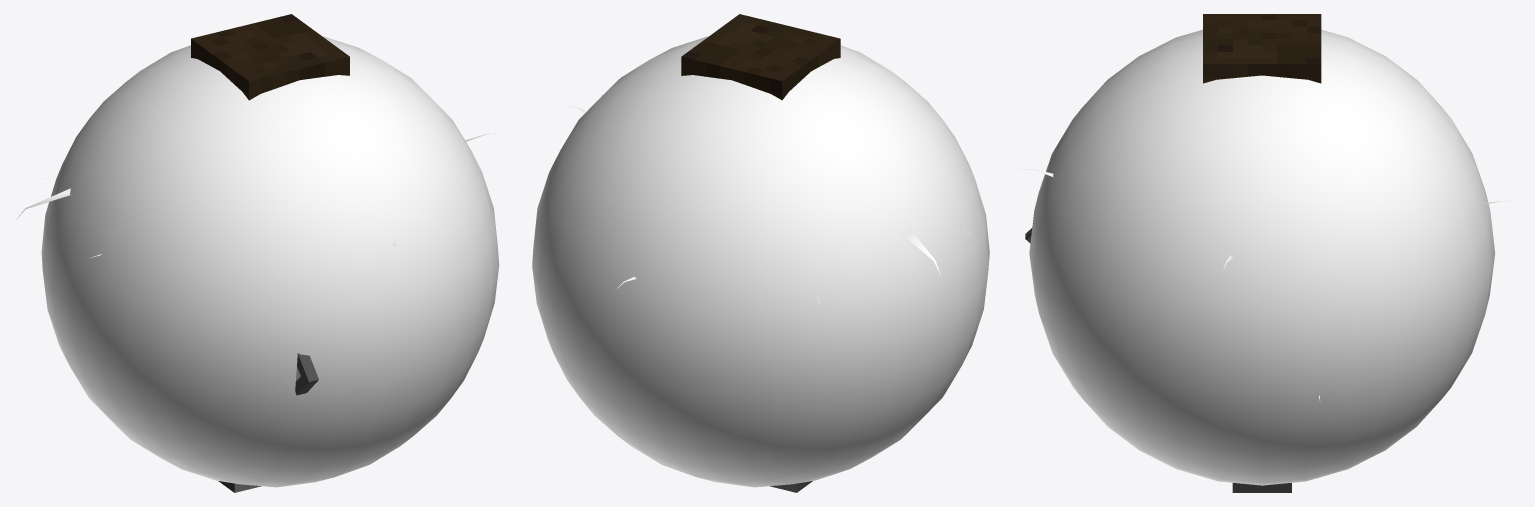
Rendered from steve.glb.
3 views of the same model, side by side, from view 1: azimuth 30°, elevation 25°; view 2: azimuth 150°, elevation 25°; view 3: azimuth 270°, elevation 25° (orthographic).
Visible parts, largest first — view 1: Sphere, Steve, Box003; view 2: Sphere, Steve; view 3: Sphere, Steve, Steve.003.
Part boxes in pixels (x1,y1,x2,y2): Sphere: [41, 36, 499, 487]; Steve: [191, 14, 349, 100]; Box003: [295, 353, 318, 395]; Sphere: [532, 36, 989, 487]; Steve: [681, 14, 840, 100]; Sphere: [1029, 29, 1495, 485]; Steve: [1203, 14, 1321, 83]; Steve.003: [1232, 483, 1291, 492].
Size of the model in its own units: 2.18 by 2.03 by 2.16.
Materials: 6 (4 with a texture image).
